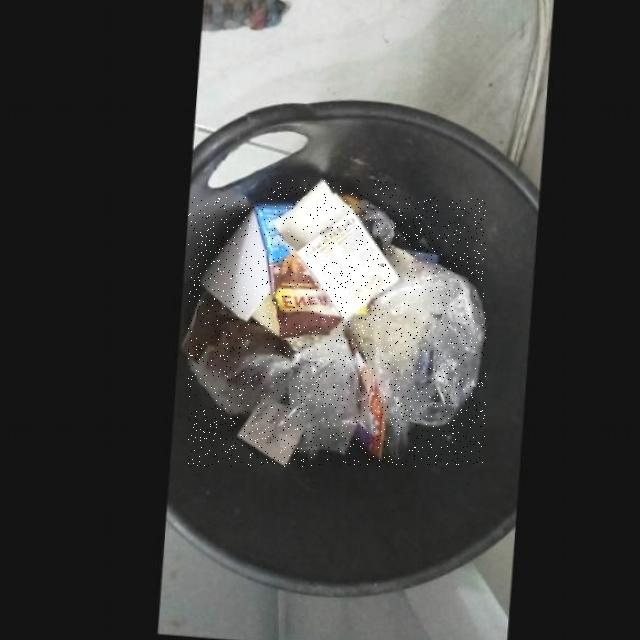paper: (271, 180, 396, 318)
plastic: (188, 197, 486, 467)
wrapper: (250, 203, 340, 339)
